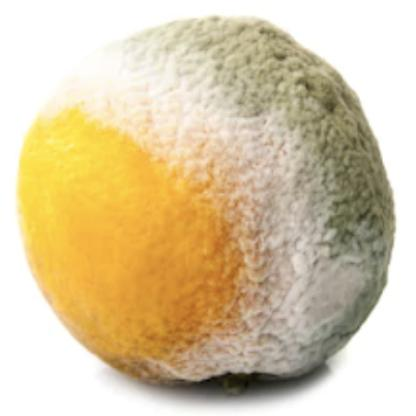rotten: (20, 15, 395, 391)
